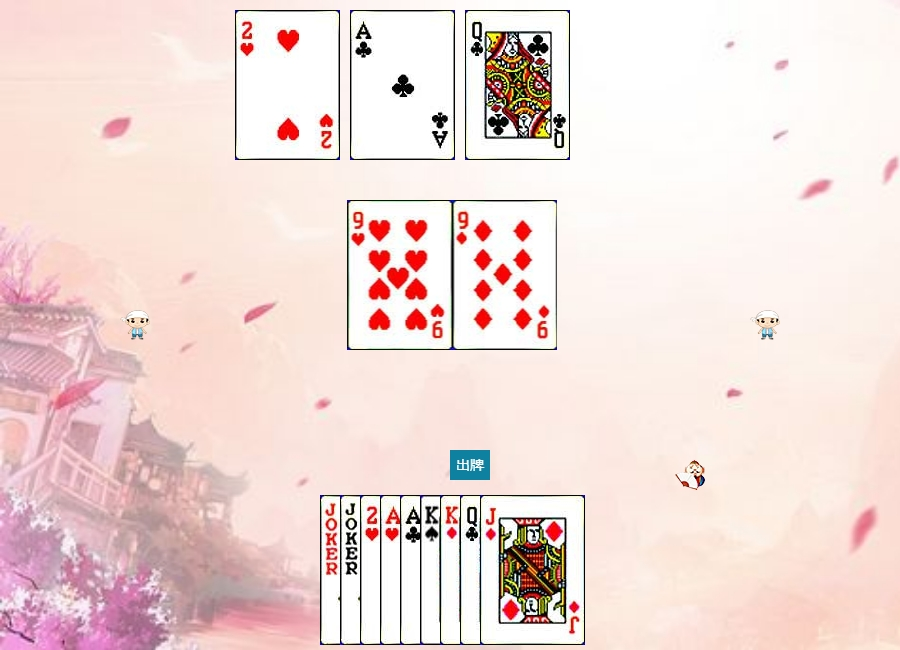11~1: (480, 495, 585, 645)
12~2: (465, 10, 570, 160), (460, 495, 565, 645)
13~1: (440, 495, 545, 645)
13~4: (420, 495, 525, 645)
14~2: (350, 10, 455, 160), (400, 495, 505, 645)
14~3: (380, 495, 485, 645)
15~3: (235, 10, 340, 160), (360, 495, 465, 645)
17~3: (340, 495, 445, 645)
18~4: (320, 495, 425, 645)
9~1: (453, 200, 558, 350)
9~3: (348, 200, 453, 350)
